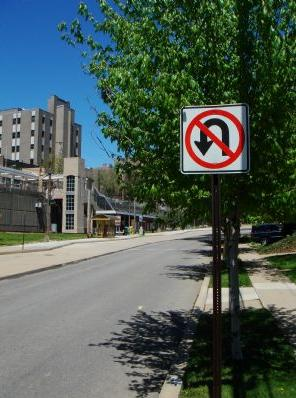no_u_turn: (184, 108, 244, 168)
